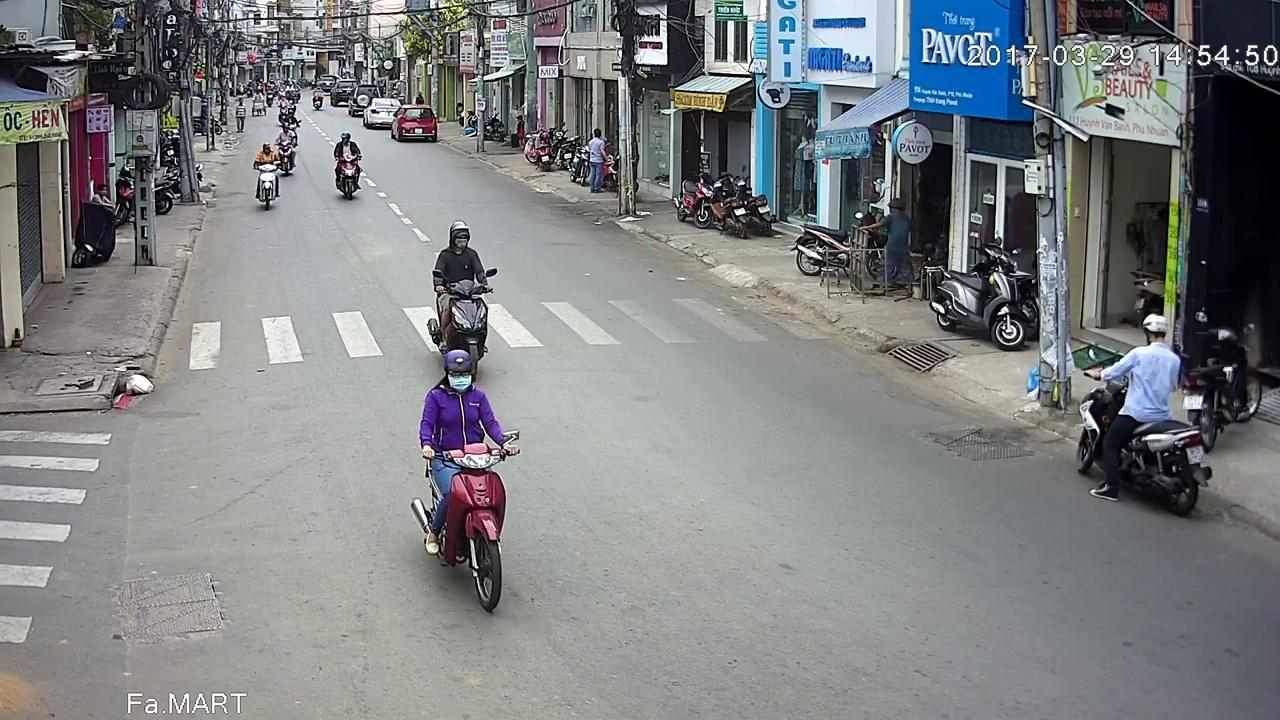xe hoi: (394, 103, 441, 141)
xe may: (1069, 314, 1212, 517), (409, 354, 519, 616), (435, 217, 494, 375), (331, 130, 363, 199), (252, 142, 281, 212), (277, 124, 301, 178)
